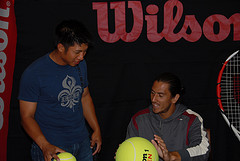tennis ball: (115, 137, 161, 161), (49, 151, 80, 161)
